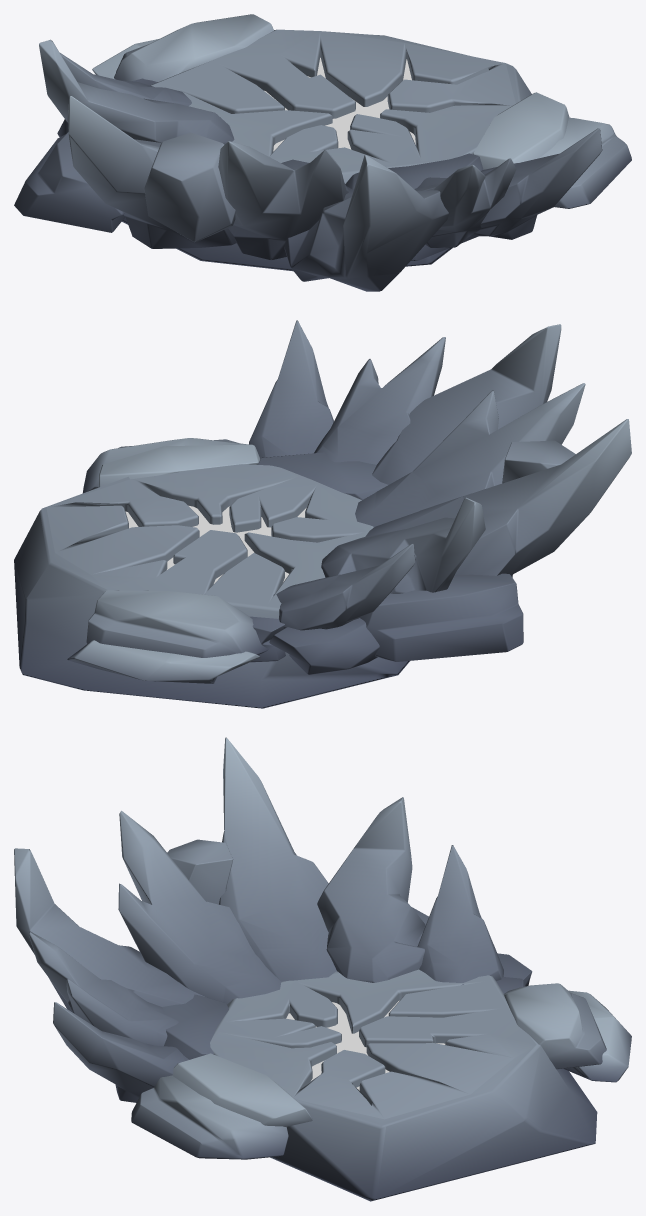
Rendered from AngryCavesDire.fbx.
3 views of the same model, one above another, from view 1: azimuth 30°, elevation 25°; view 2: azimuth 150°, elevation 25°; view 3: azimuth 270°, elevation 25° (orthographic). The views are drawn at different scales.
Parts seen in each view (by area): view 1: Rock2.013, Rock2.014, Rock2.019, Rock2.020, Rock2.015; view 2: Rock2.013, Rock2.014, Rock2.020, Rock2.019, Rock2.015; view 3: Rock2.013, Rock2.014, Rock2.019, Rock2.020, Rock2.015.
Boxes of the visible parts, x1=… form: Rock2.013: x1=14, y1=39, x2=602, y2=291; Rock2.014: x1=122, y1=29, x2=531, y2=271; Rock2.019: x1=473, y1=92, x2=631, y2=208; Rock2.020: x1=92, y1=14, x2=273, y2=81; Rock2.015: x1=264, y1=57, x2=415, y2=151; Rock2.013: x1=249, y1=320, x2=631, y2=674; Rock2.014: x1=14, y1=464, x2=409, y2=708; Rock2.020: x1=67, y1=590, x2=268, y2=683; Rock2.019: x1=83, y1=438, x2=260, y2=493; Rock2.015: x1=125, y1=505, x2=306, y2=583; Rock2.013: x1=14, y1=737, x2=532, y2=1102; Rock2.014: x1=210, y1=969, x2=597, y2=1201; Rock2.019: x1=131, y1=1053, x2=312, y2=1159; Rock2.020: x1=503, y1=983, x2=631, y2=1082; Rock2.015: x1=286, y1=1000, x2=445, y2=1090.
Bounding box in the file's own units: 626 × 241 × 641.
